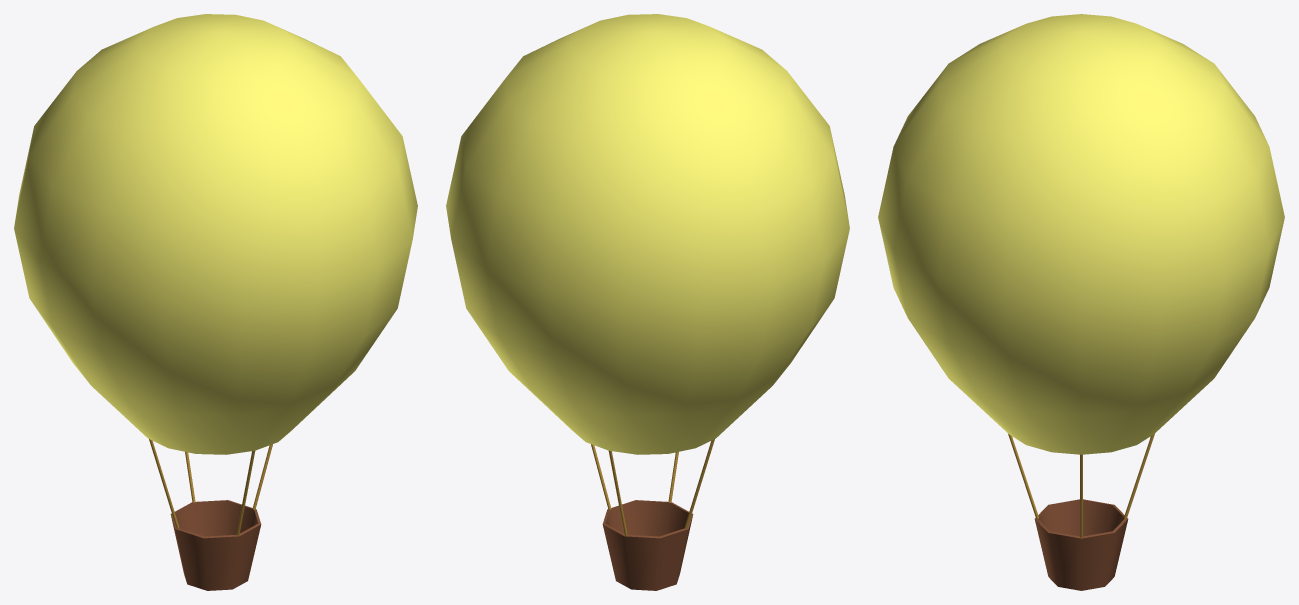
File: Lv2_FB_Quicker.FBX
3 renders of one model, left to right at view 1: azimuth 30°, elevation 25°; view 2: azimuth 150°, elevation 25°; view 3: azimuth 270°, elevation 25°, orthographic.
Visible parts, largest first — view 1: Sphere001, Cylinder001, Line003; view 2: Sphere001, Cylinder001, Line003; view 3: Sphere001, Cylinder001, Line003.
Boxes of the visible parts, x1=… form: Sphere001: x1=14, y1=14, x2=417, y2=454; Cylinder001: x1=170, y1=500, x2=261, y2=590; Line003: x1=149, y1=439, x2=272, y2=535; Sphere001: x1=446, y1=14, x2=849, y2=454; Cylinder001: x1=602, y1=500, x2=693, y2=590; Line003: x1=591, y1=439, x2=714, y2=535; Sphere001: x1=878, y1=14, x2=1284, y2=454; Cylinder001: x1=1034, y1=499, x2=1128, y2=590; Line003: x1=1008, y1=434, x2=1154, y2=537.
Bounding box in the file's own units: 130 × 192 × 130.
